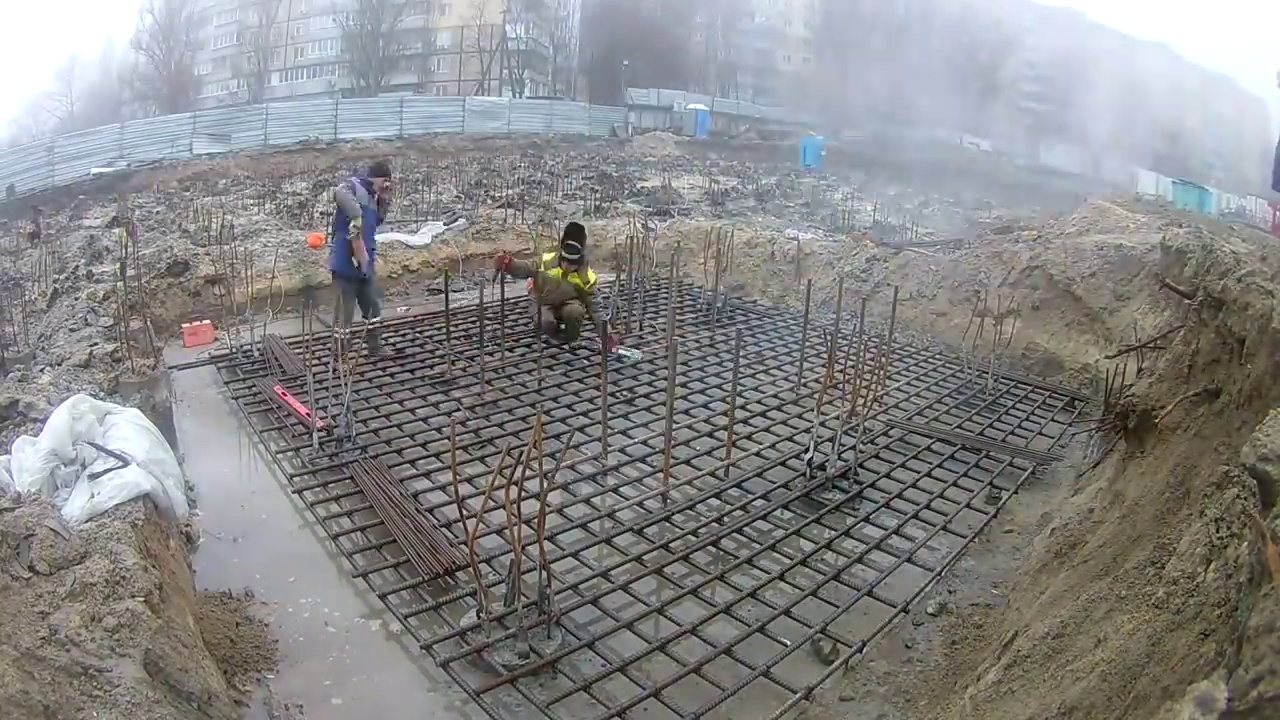helmet: (305, 232, 326, 250)
helmet-off: (556, 223, 589, 276), (353, 162, 387, 199)
person: (495, 223, 608, 347), (312, 160, 389, 341)
